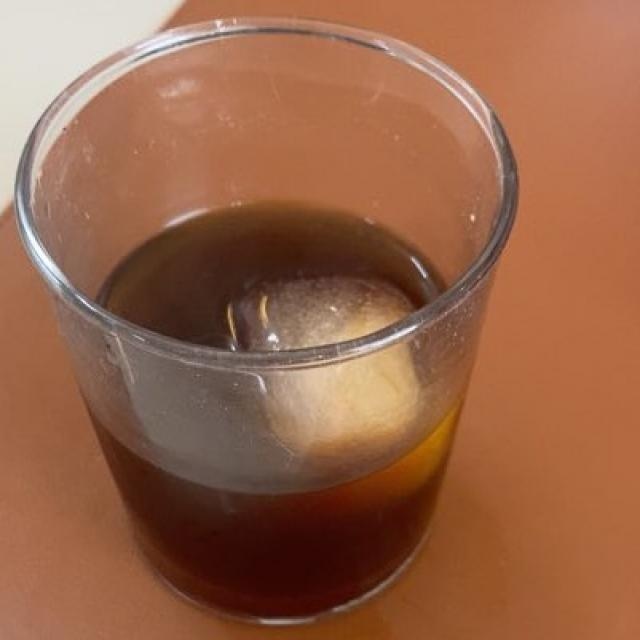coffee: (89, 213, 447, 602)
ice-cubes: (227, 277, 448, 461)
